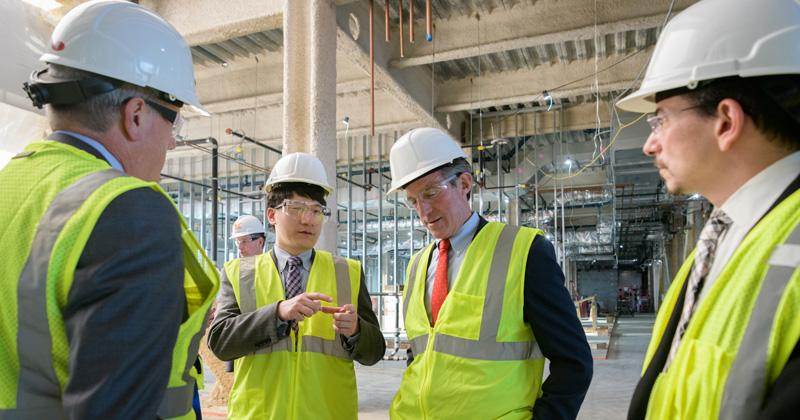helmet: (611, 1, 800, 115), (41, 1, 210, 119), (386, 130, 464, 199), (269, 152, 332, 197), (230, 214, 265, 239)
